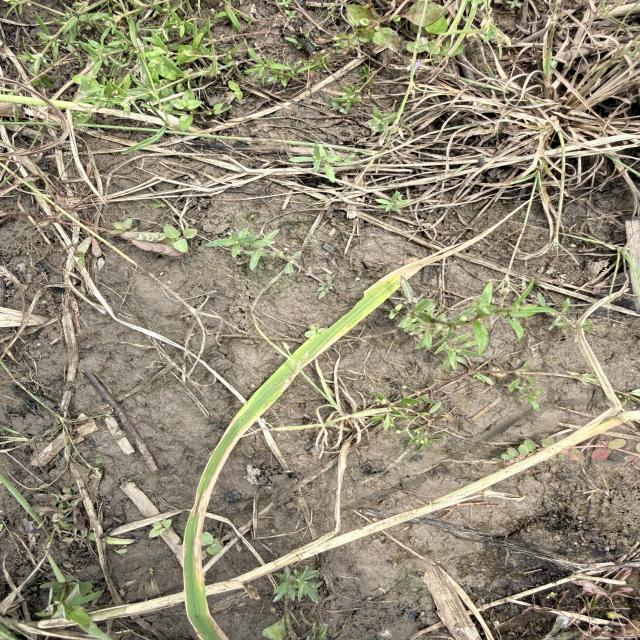Chay bia la: (363, 193, 541, 290), (194, 405, 270, 585), (279, 334, 344, 392)
